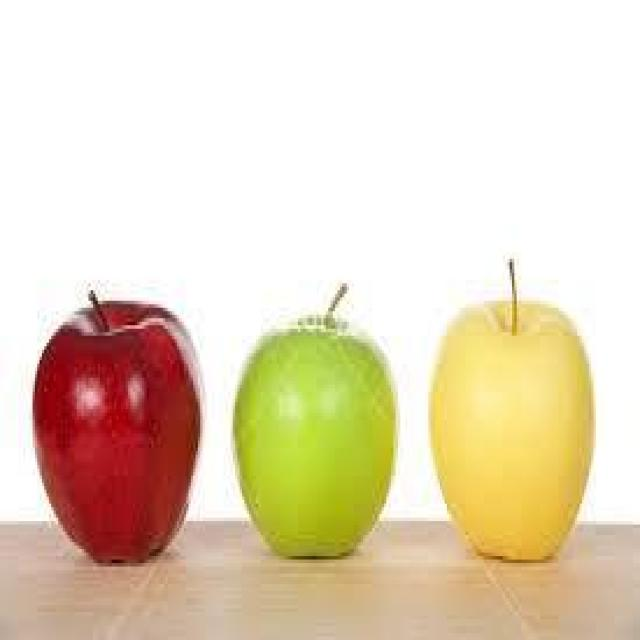maca: (426, 255, 596, 560), (31, 287, 202, 563), (230, 280, 398, 560)
